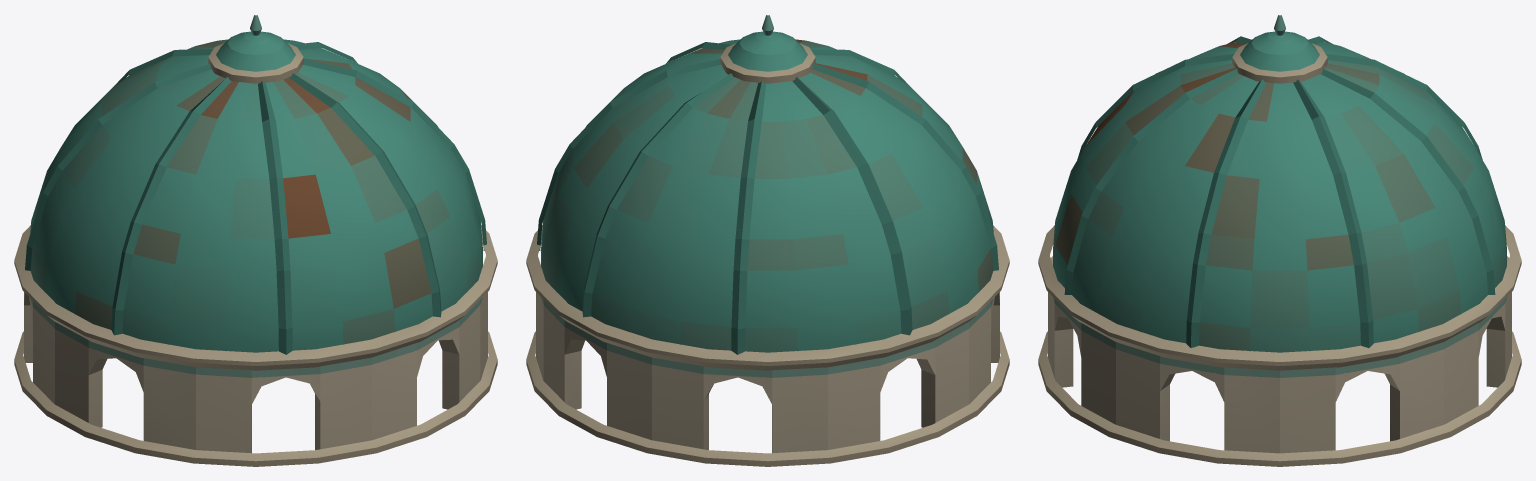
The model's file is dome.hall_8.copper.glb.
3 views of the same model, side by side, from view 1: azimuth 30°, elevation 25°; view 2: azimuth 150°, elevation 25°; view 3: azimuth 270°, elevation 25° (orthographic).
Parts seen in each view (by area): view 1: dome_hall_8_copper; view 2: dome_hall_8_copper; view 3: dome_hall_8_copper.
Boxes of the visible parts, x1,y1,x2,y2 form: dome_hall_8_copper: (14, 15, 497, 466); dome_hall_8_copper: (526, 15, 1009, 466); dome_hall_8_copper: (1038, 15, 1521, 466).
Size of what is drawn, in the model's own units: 15.2 by 12.15 by 15.2.
